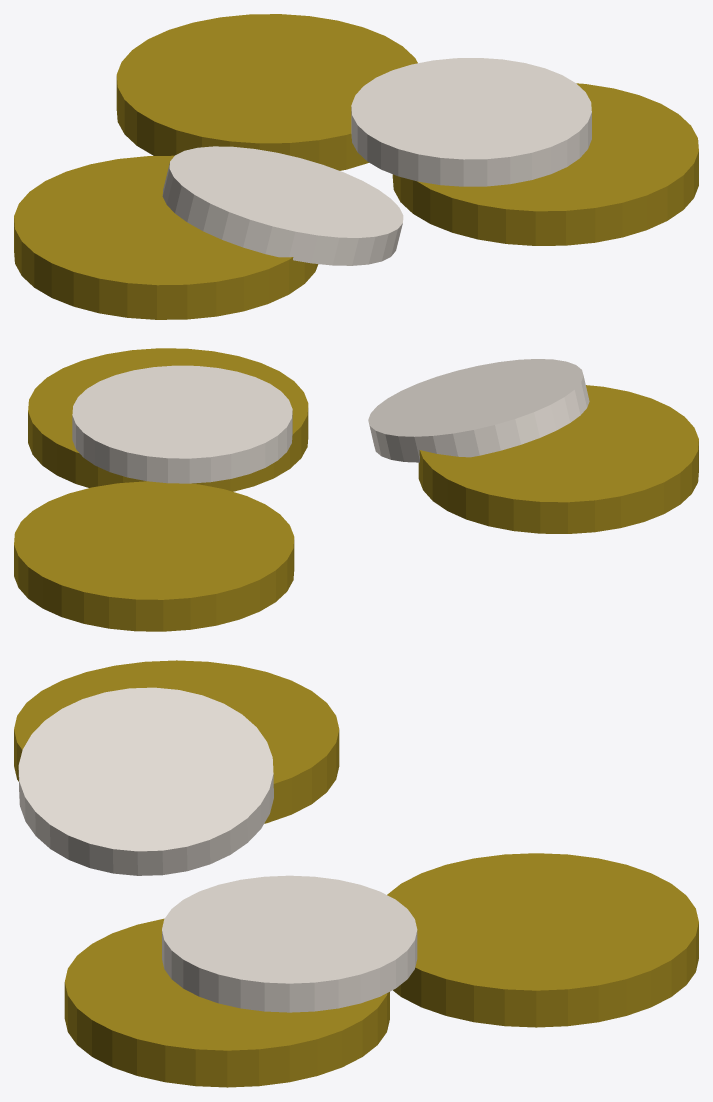
Rendered from coins.glb.
3 renders of one model, top to bottom at view 1: azimuth 30°, elevation 25°; view 2: azimuth 150°, elevation 25°; view 3: azimuth 270°, elevation 25°, orthographic. The views are drawn at different scales.
Visible parts, largest first — view 1: Coins; view 2: Coins; view 3: Coins.
Part boxes in pixels (bbox=[...]): Coins: bbox=[14, 14, 698, 319]; Coins: bbox=[14, 348, 698, 631]; Coins: bbox=[14, 660, 698, 1087].
Size of the model in its own units: 0.7926 by 0.1417 by 0.6636.
